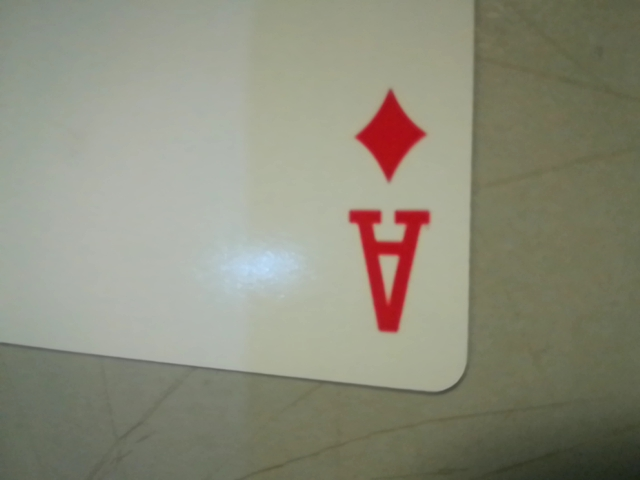fk a: (319, 86, 452, 353)
